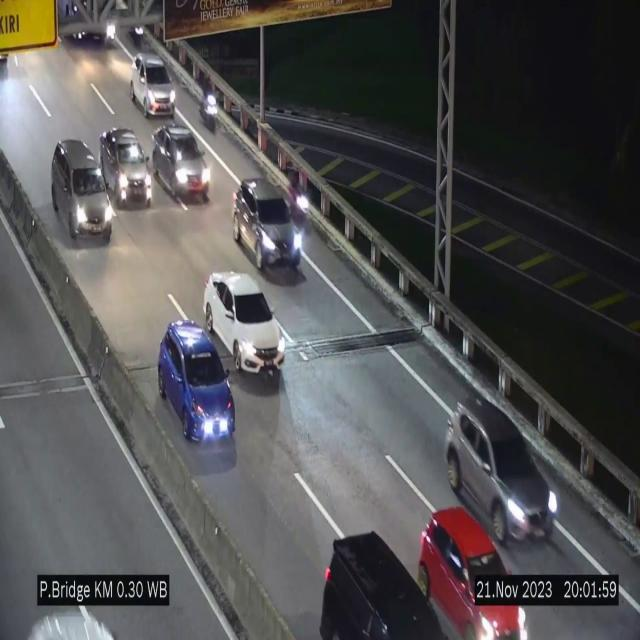Car: (443, 397, 557, 554), (416, 496, 532, 640), (310, 533, 445, 640), (158, 320, 234, 440), (203, 272, 284, 372), (232, 177, 304, 275), (51, 138, 112, 244), (153, 125, 210, 202), (100, 128, 150, 206), (131, 54, 175, 116)
Motorcycle: (287, 165, 310, 235), (198, 72, 220, 136)
